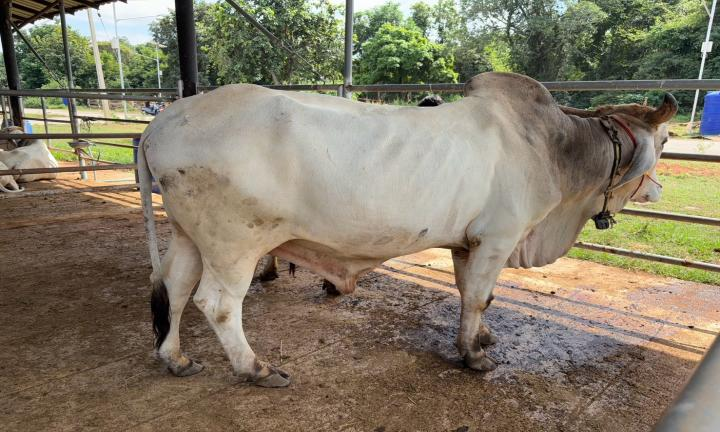Brahman: (138, 72, 678, 386)
